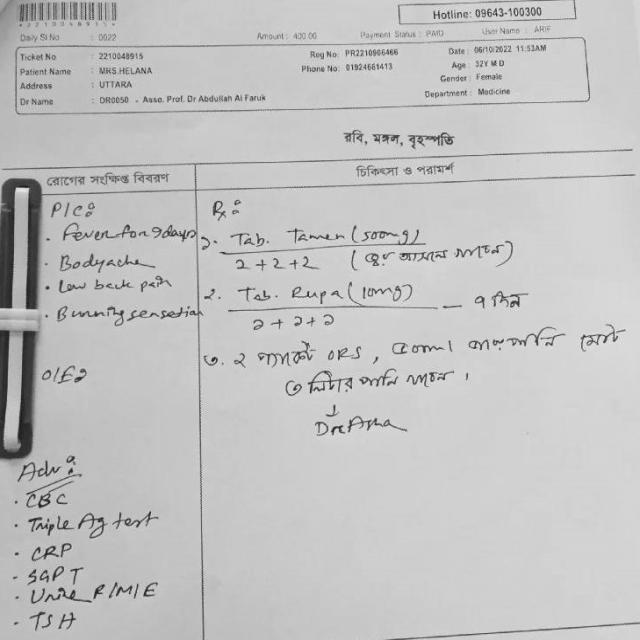medicine: (282, 278, 346, 306), (286, 224, 348, 248), (324, 343, 369, 366)
